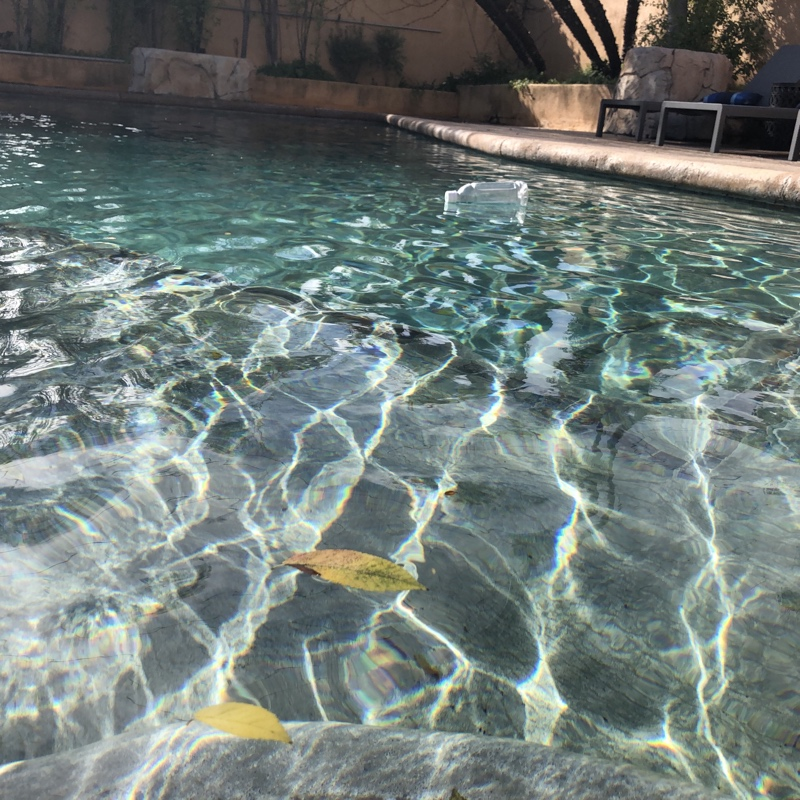Plastic Bottle: (441, 175, 532, 218)
